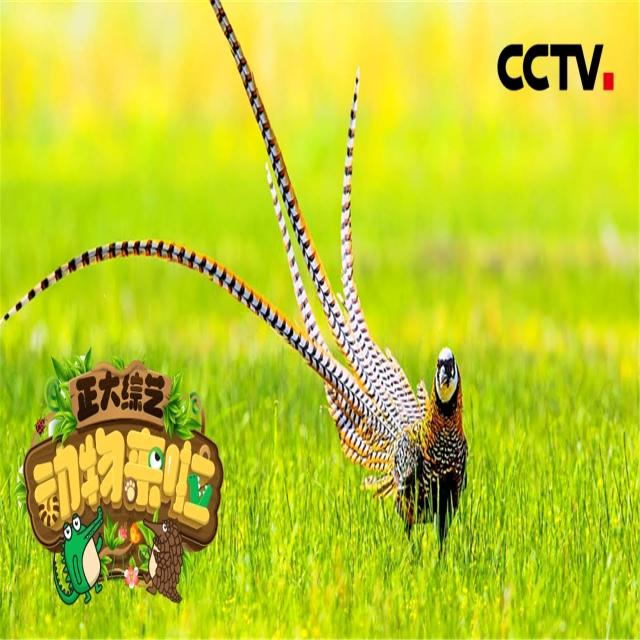Reeves-s Pheasant: (1, 0, 430, 475)
